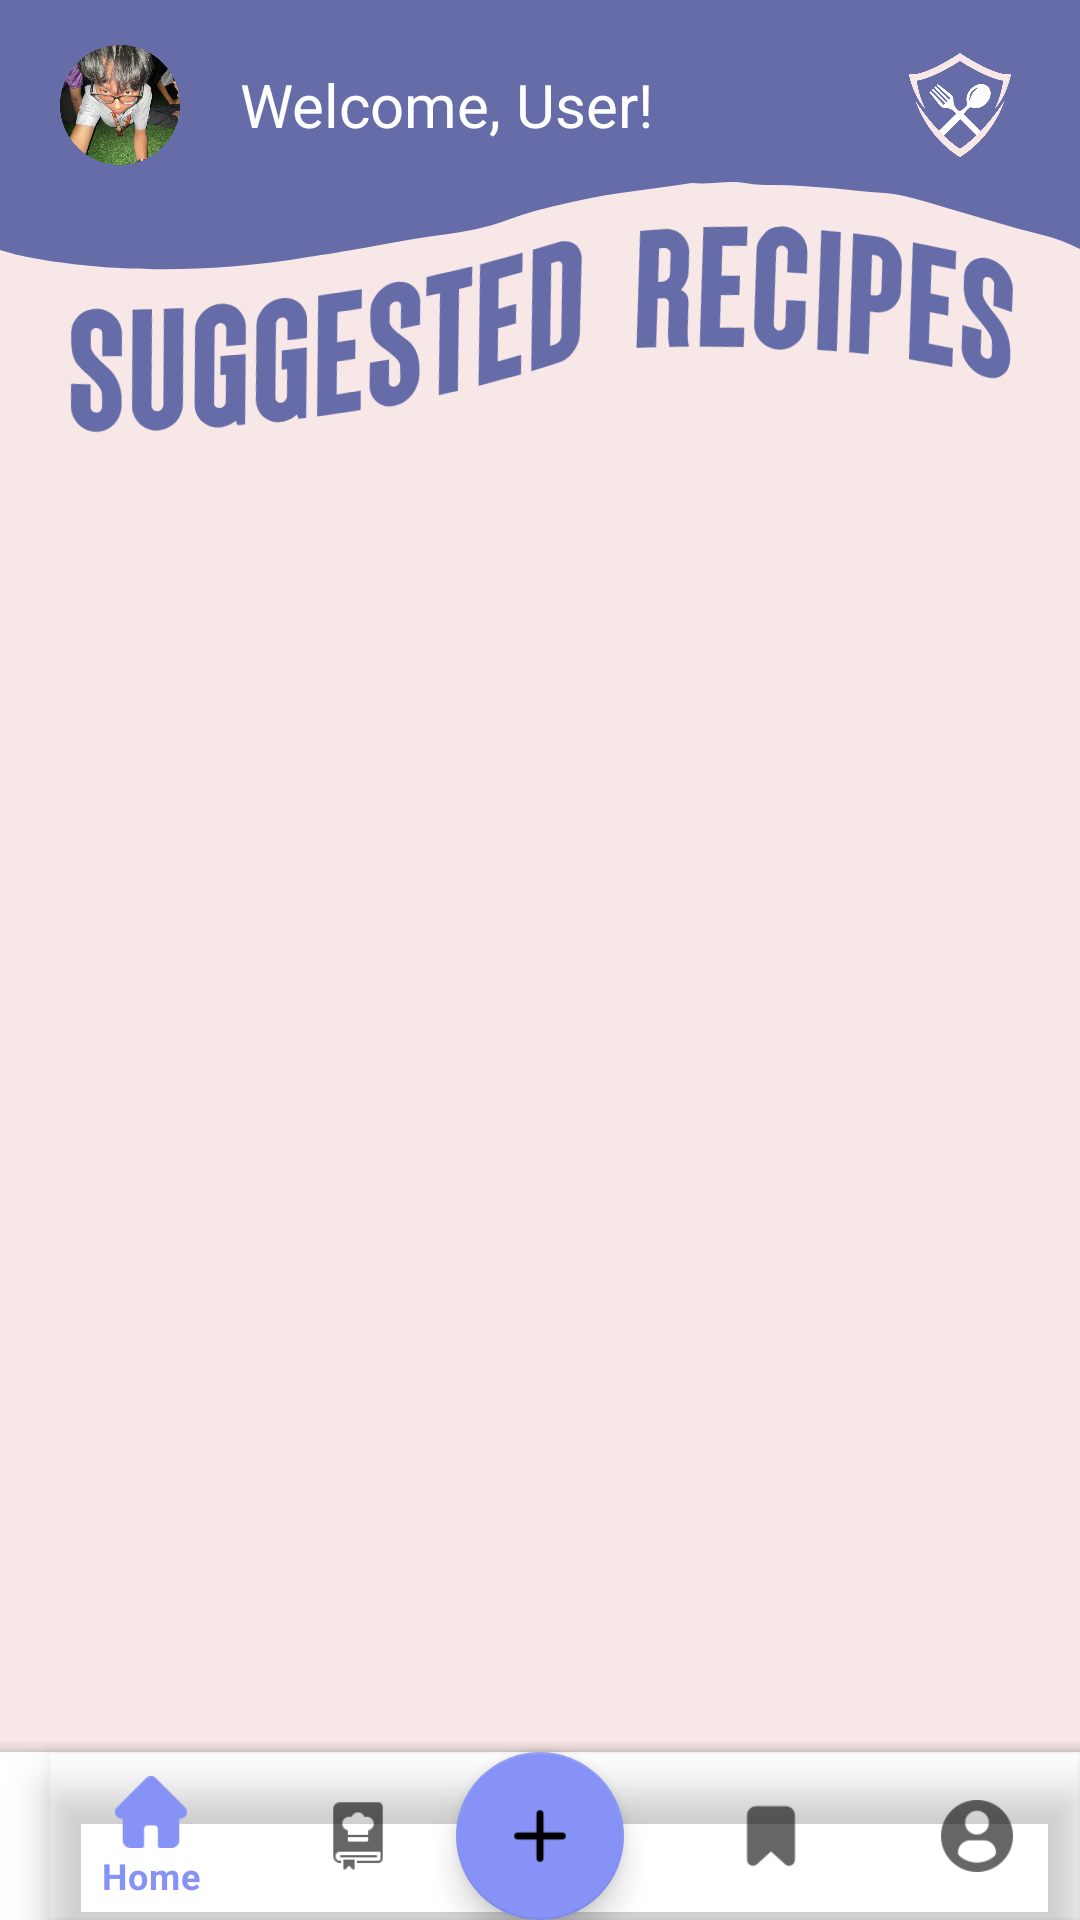

Where to tap for icons on this 1080 x 1920 app screen, as point (x, y):
add: point (540, 1836)
